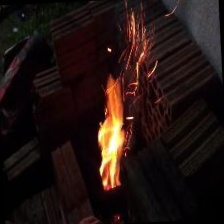fire: (86, 20, 145, 206)
